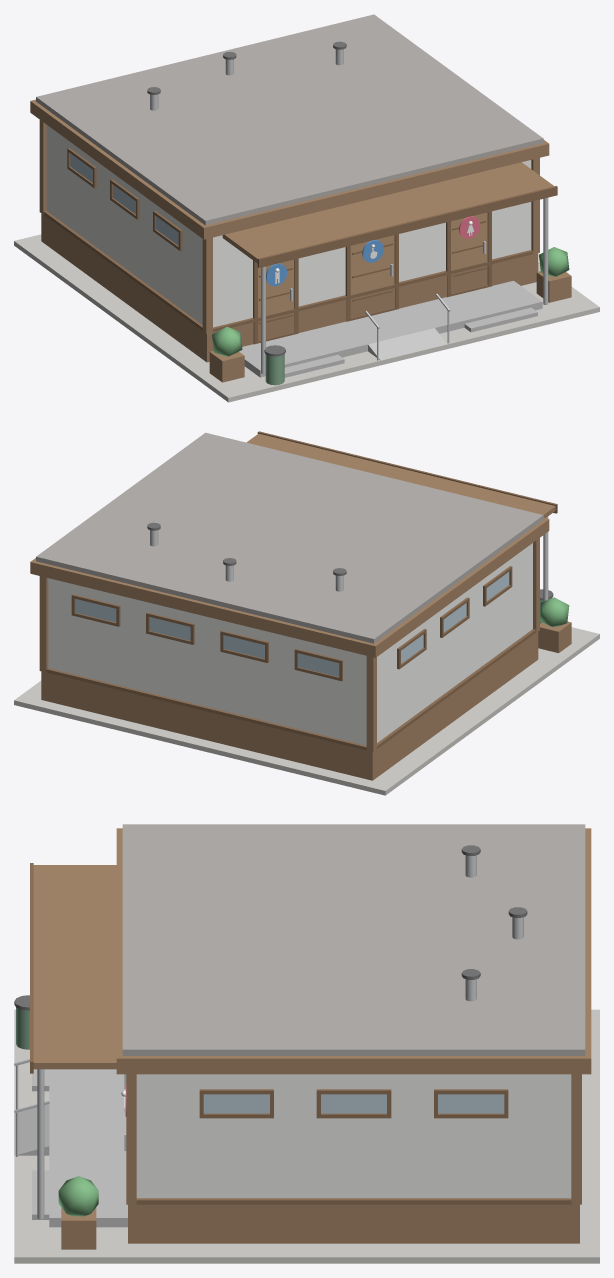
3 views of the same model, one above another, from view 1: azimuth 30°, elevation 25°; view 2: azimuth 150°, elevation 25°; view 3: azimuth 270°, elevation 25° (orthographic). The views are drawn at different scales.
Parts seen in each view (by area): view 1: base; view 2: base; view 3: base.
Part boxes in pixels (x1=…): base: x1=14, y1=14, x2=599, y2=402; base: x1=14, y1=431, x2=599, y2=795; base: x1=14, y1=824, x2=599, y2=1263.
Size of the model in its own units: 10 by 4.31 by 10.01.
